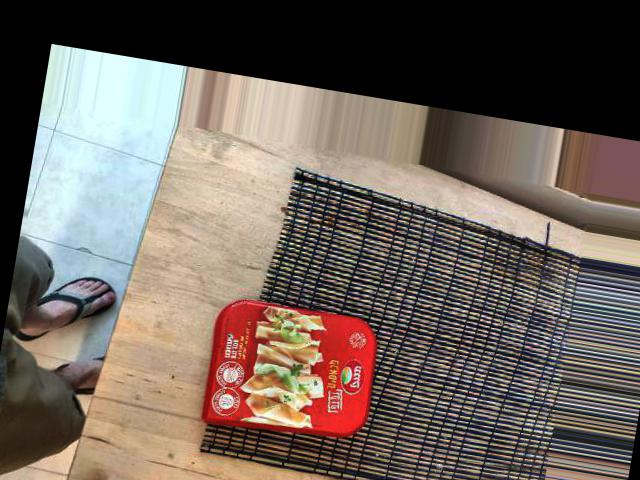cheese: (271, 192, 431, 382)
